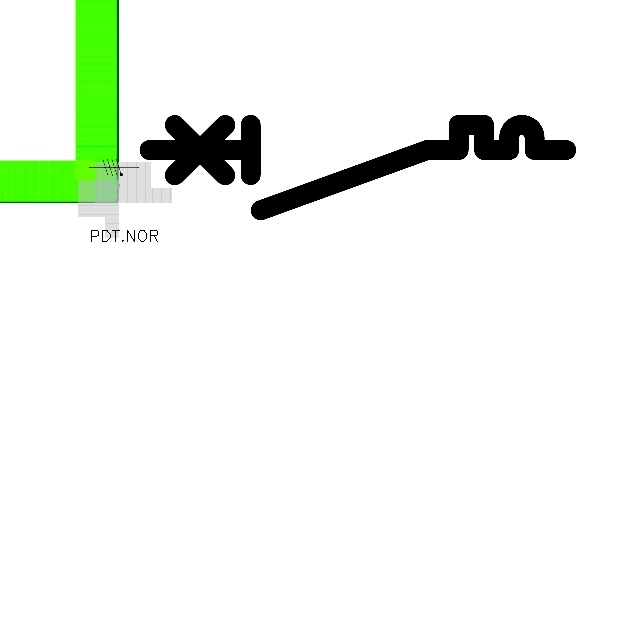interruptor_termomagnetico: (138, 114, 577, 221)
